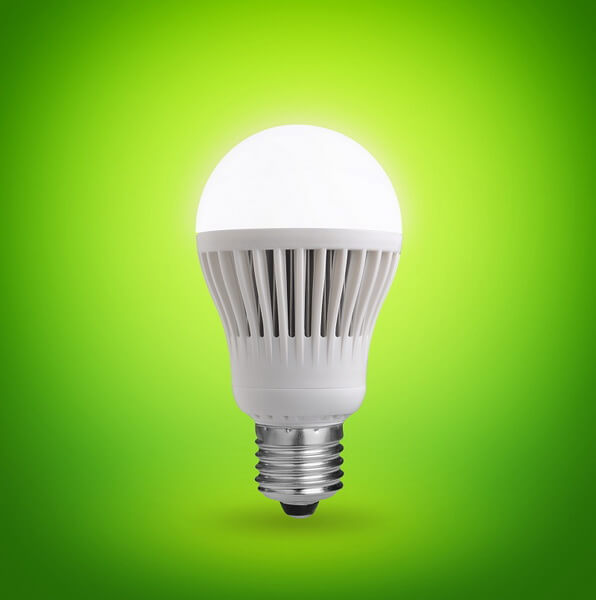Light_bulb: (187, 116, 411, 532)
